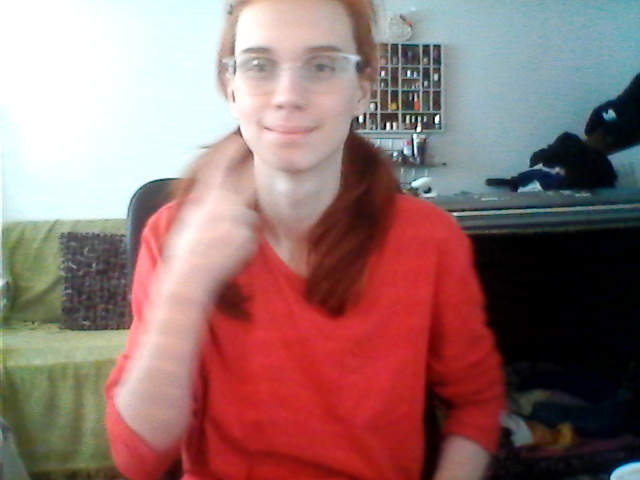usmievat: (160, 125, 422, 247)
